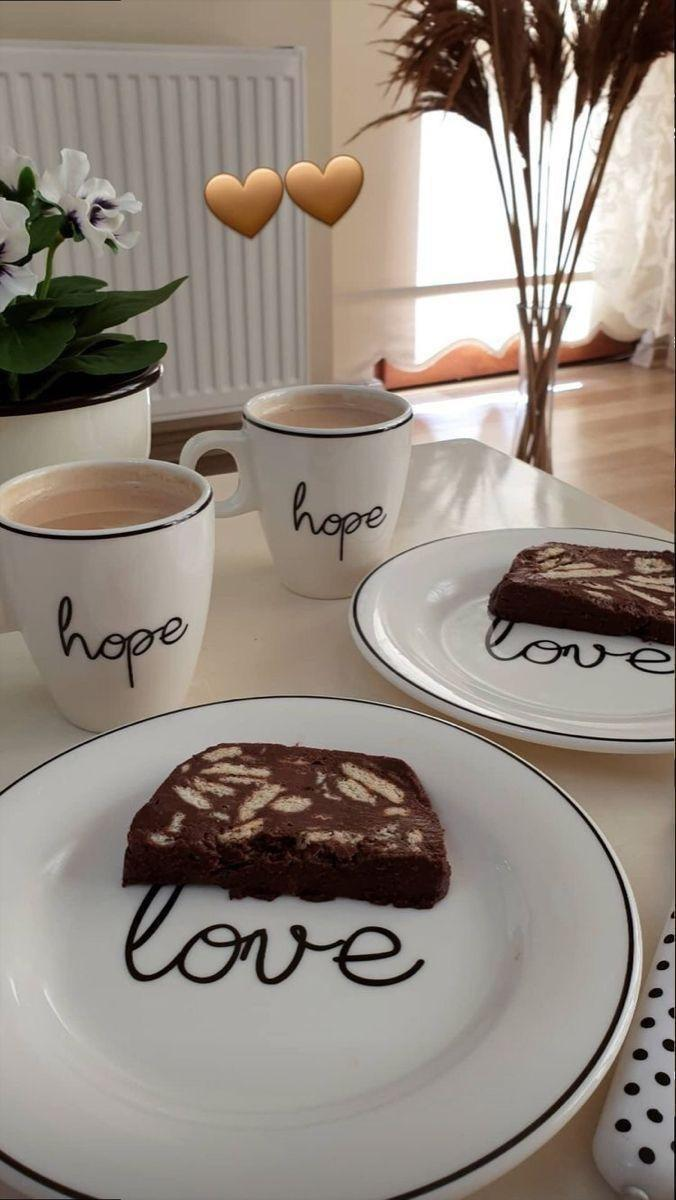cup-handle: (0, 456, 217, 734), (178, 382, 416, 601)
